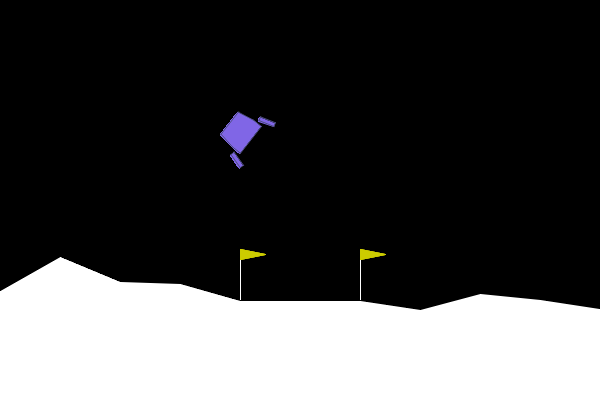lander: (209, 99, 278, 171)
